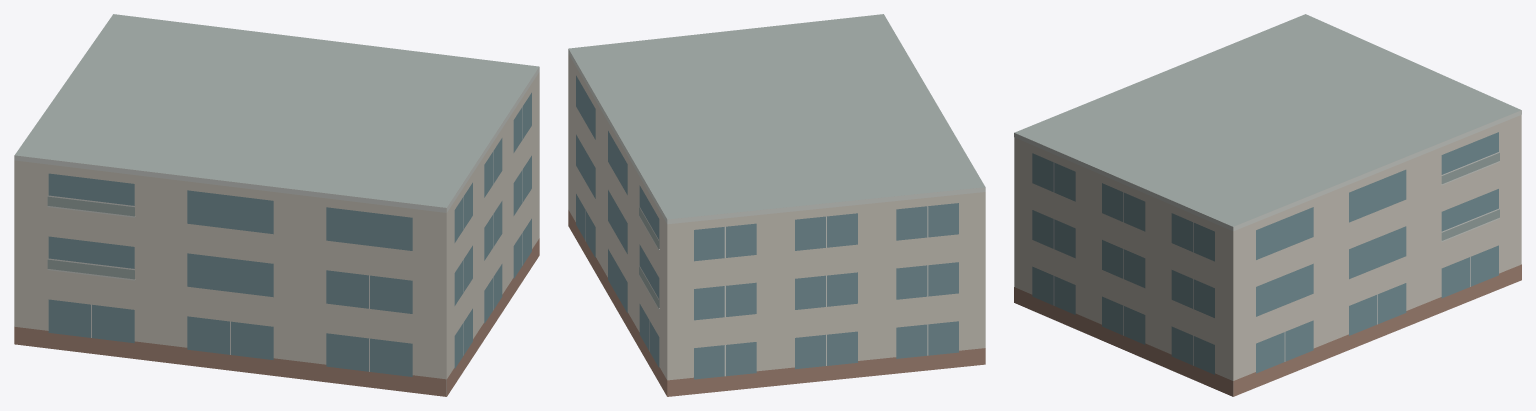
File: survey-upis-33038426.glb
3 renders of one model, left to right at view 1: azimuth 30°, elevation 25°; view 2: azimuth 150°, elevation 25°; view 3: azimuth 270°, elevation 25°, orthographic. The views are drawn at different scales.
Parts seen in each view (by area): view 1: survey-upis-33038426.tmp; view 2: survey-upis-33038426.tmp; view 3: survey-upis-33038426.tmp.
Part boxes in pixels (left/top/right/bottom): survey-upis-33038426.tmp: left=14, top=14, right=539, bottom=396; survey-upis-33038426.tmp: left=568, top=14, right=985, bottom=396; survey-upis-33038426.tmp: left=1014, top=14, right=1521, bottom=396.
Size of the model in its own units: 24.57 by 9.15 by 24.76.
